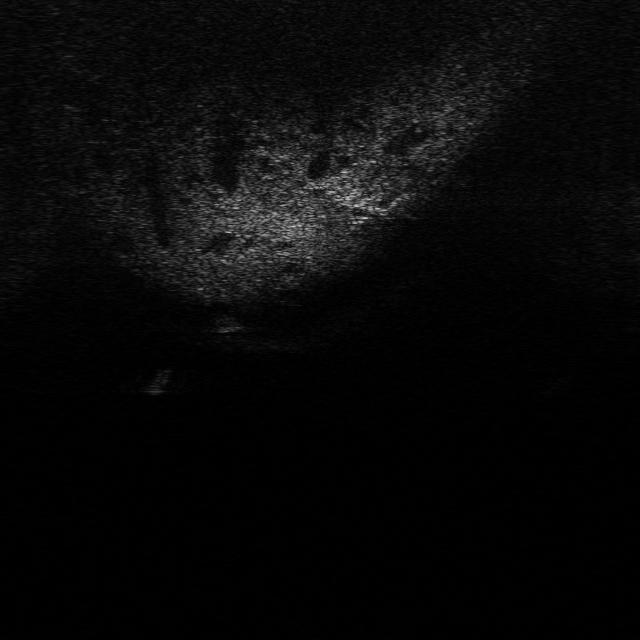cube: (204, 309, 246, 334)
cylinder: (140, 366, 170, 394)
